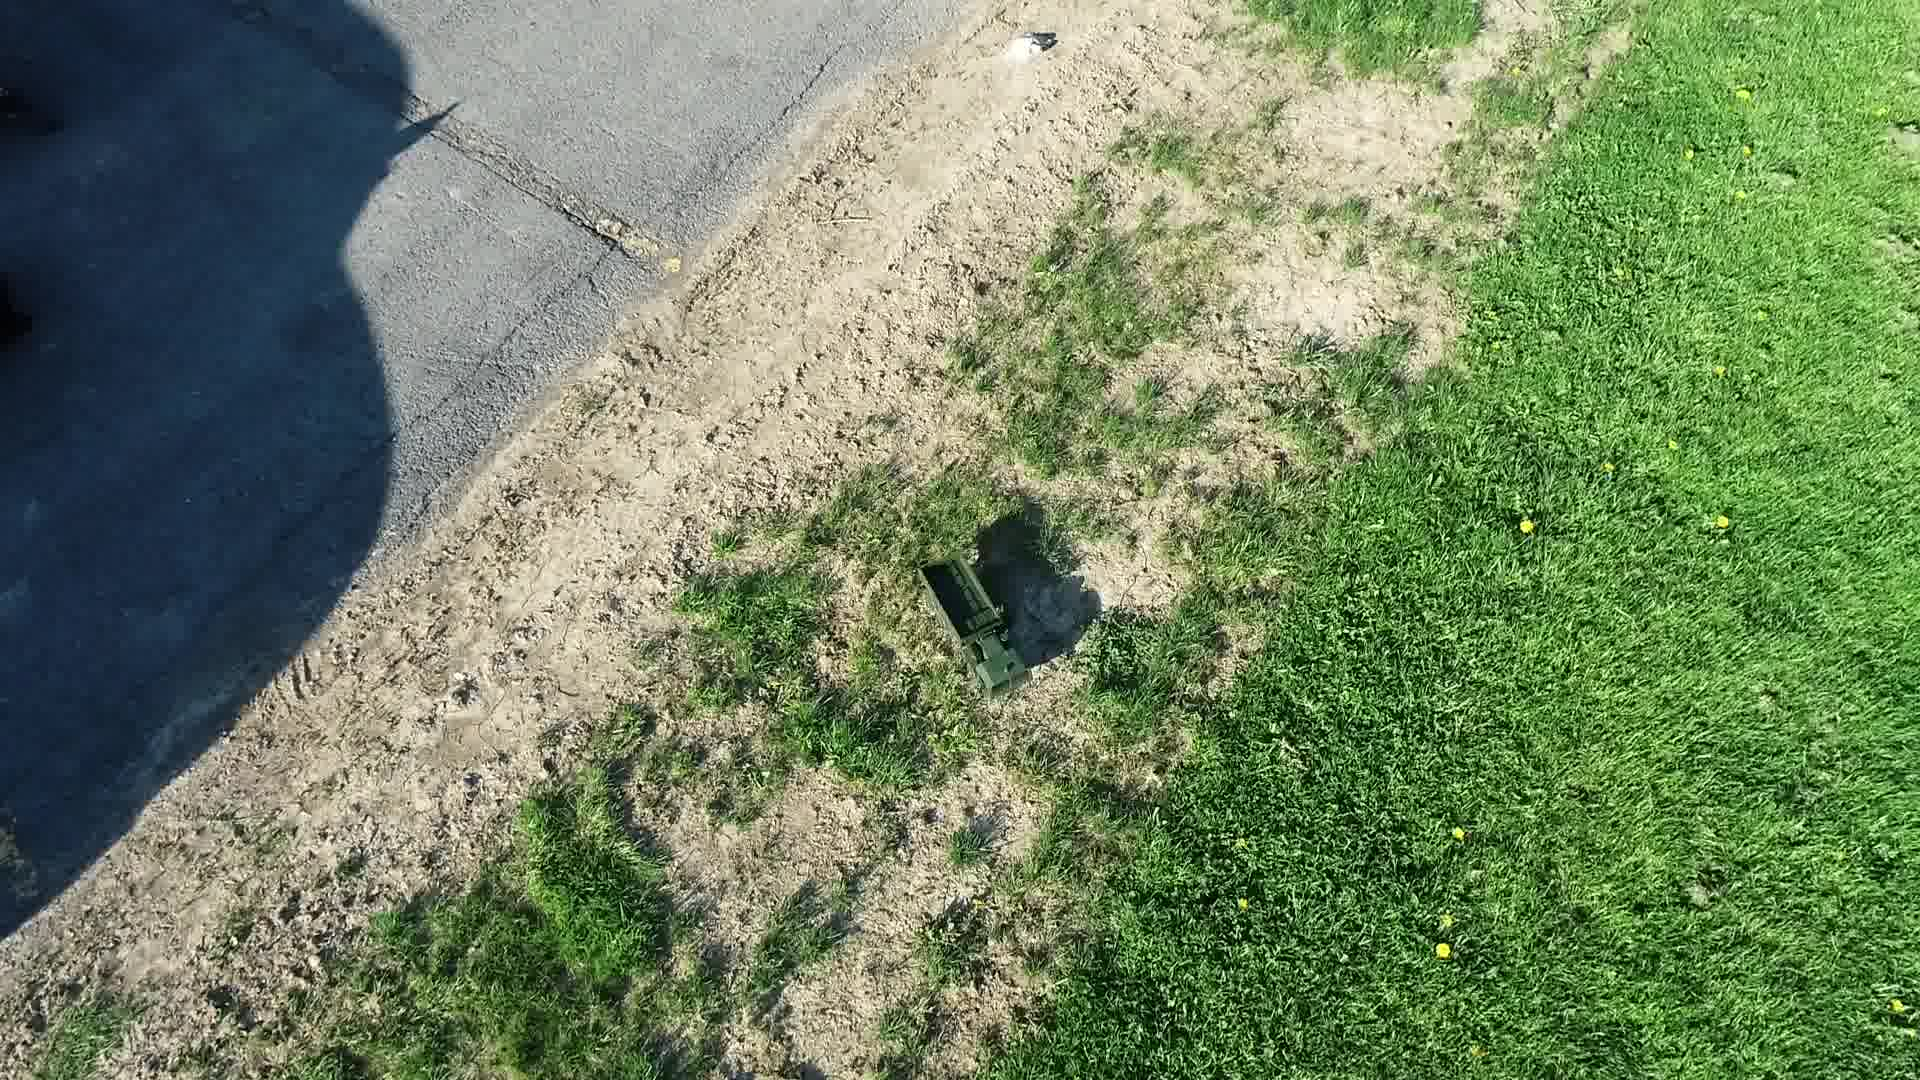transporter9: (909, 549, 1036, 705)
